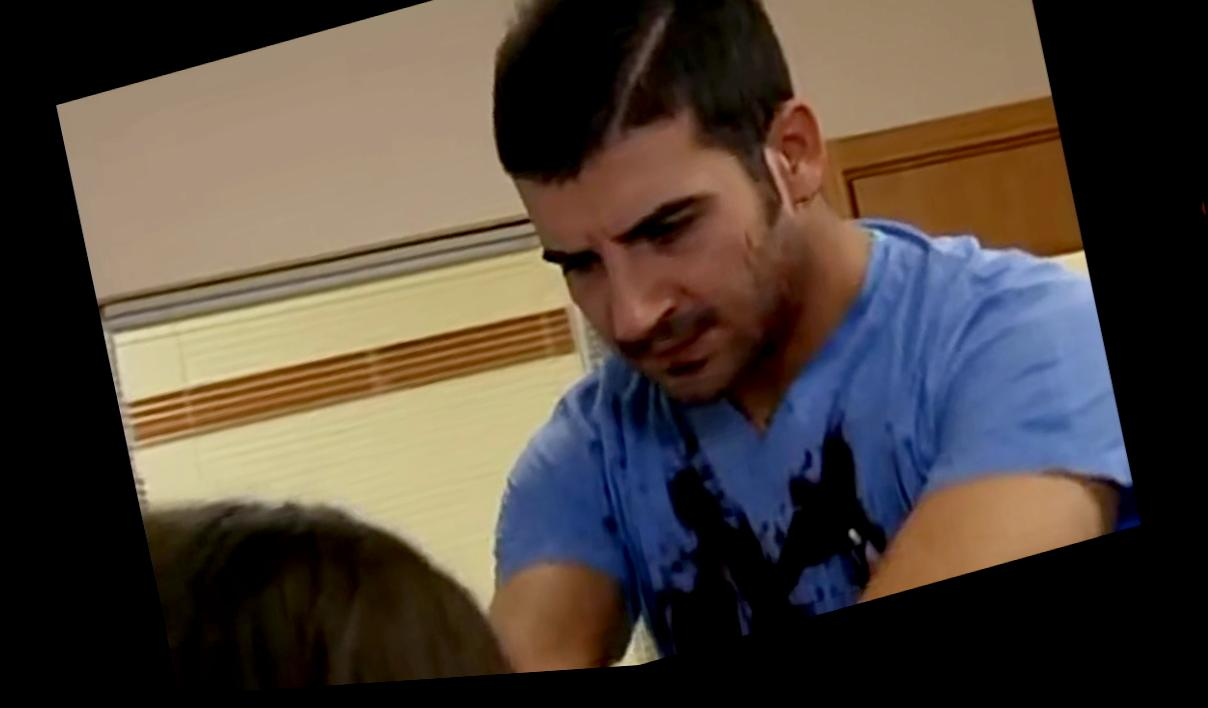Fire: (578, 371, 892, 667)
